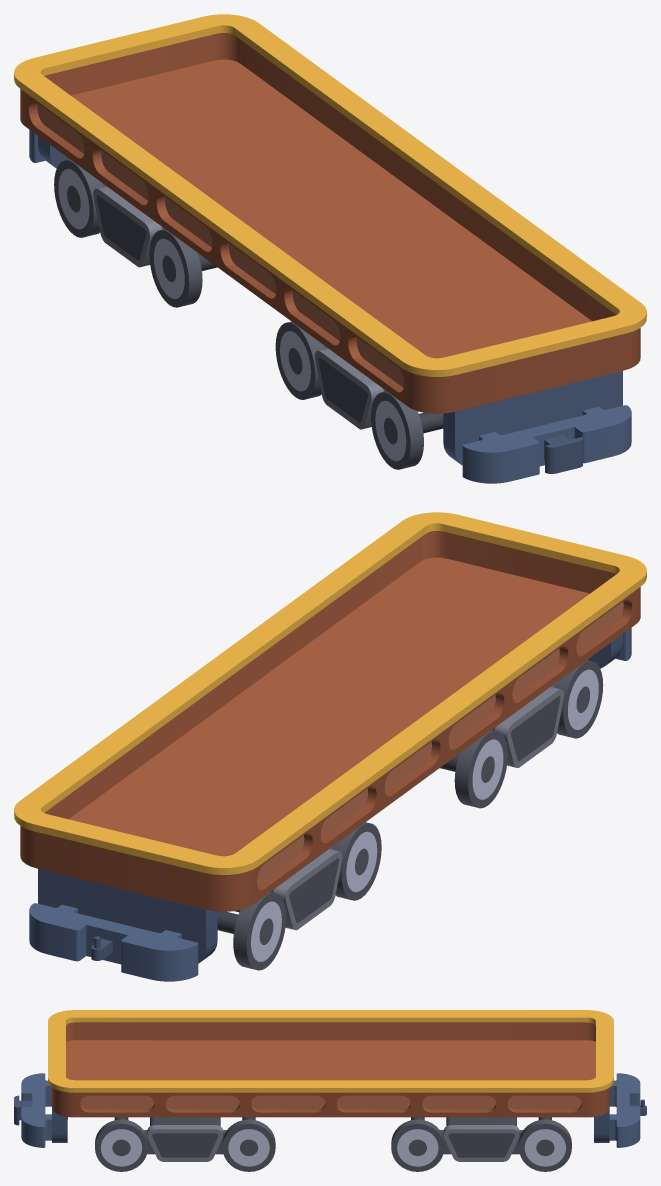
Rendered from Wagon Dumpcar.fbx.
3 views of the same model, one above another, from view 1: azimuth 30°, elevation 25°; view 2: azimuth 150°, elevation 25°; view 3: azimuth 270°, elevation 25° (orthographic). The views are drawn at different scales.
Parts seen in each view (by area): view 1: Wagon Dumpcar, Wagon Dumpcar Wheel.004, Wagon Dumpcar Wheel.002, Wagon Dumpcar Wheel, Wagon Dumpcar Wheel.001, Wagon Dumpcar Wheel.005, Wagon Dumpcar Wheel.003; view 2: Wagon Dumpcar, Wagon Dumpcar Wheel.003, Wagon Dumpcar Wheel.005, Wagon Dumpcar Wheel, Wagon Dumpcar Wheel.001, Wagon Dumpcar Wheel.002, Wagon Dumpcar Wheel.004; view 3: Wagon Dumpcar, Wagon Dumpcar Wheel.001, Wagon Dumpcar Wheel, Wagon Dumpcar Wheel.003, Wagon Dumpcar Wheel.002, Wagon Dumpcar Wheel.004, Wagon Dumpcar Wheel.005.
Boxes of the visible parts, left/top/right/bottom form: Wagon Dumpcar: left=14, top=14, right=646, bottom=483; Wagon Dumpcar Wheel.004: left=371, top=391, right=443, bottom=469; Wagon Dumpcar Wheel.002: left=149, top=229, right=217, bottom=307; Wagon Dumpcar Wheel: left=93, top=183, right=164, bottom=267; Wagon Dumpcar Wheel.001: left=315, top=345, right=418, bottom=429; Wagon Dumpcar Wheel.005: left=275, top=321, right=324, bottom=399; Wagon Dumpcar Wheel.003: left=54, top=159, right=103, bottom=237; Wagon Dumpcar: left=14, top=512, right=646, bottom=981; Wagon Dumpcar Wheel.003: left=217, top=892, right=286, bottom=970; Wagon Dumpcar Wheel.005: left=440, top=730, right=507, bottom=808; Wagon Dumpcar Wheel: left=234, top=846, right=342, bottom=930; Wagon Dumpcar Wheel.001: left=492, top=684, right=563, bottom=767; Wagon Dumpcar Wheel.002: left=332, top=822, right=381, bottom=900; Wagon Dumpcar Wheel.004: left=554, top=660, right=603, bottom=738; Wagon Dumpcar: left=14, top=1010, right=646, bottom=1147; Wagon Dumpcar Wheel.001: left=143, top=1117, right=226, bottom=1161; Wagon Dumpcar Wheel: left=440, top=1117, right=522, bottom=1161; Wagon Dumpcar Wheel.003: left=518, top=1117, right=571, bottom=1171; Wagon Dumpcar Wheel.002: left=391, top=1117, right=444, bottom=1171; Wagon Dumpcar Wheel.004: left=95, top=1117, right=147, bottom=1171; Wagon Dumpcar Wheel.005: left=222, top=1117, right=275, bottom=1171.
Bounding box in the file's own units: 2.95 × 1.62 × 10.1.
